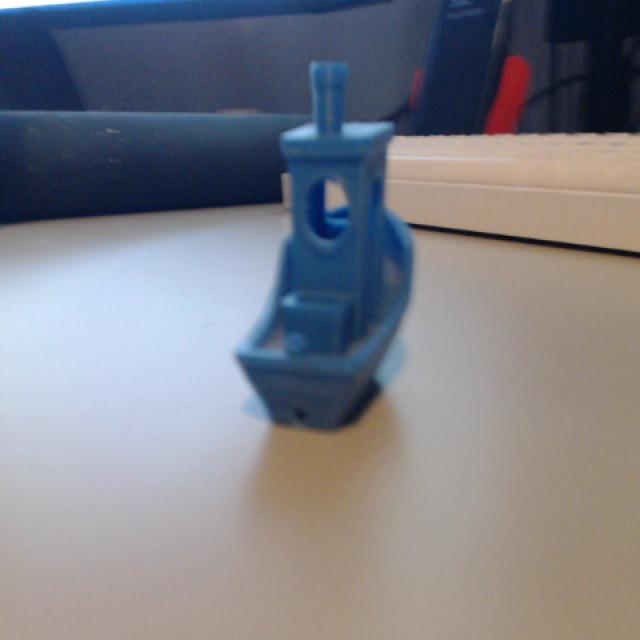benchy: (230, 56, 418, 433)
